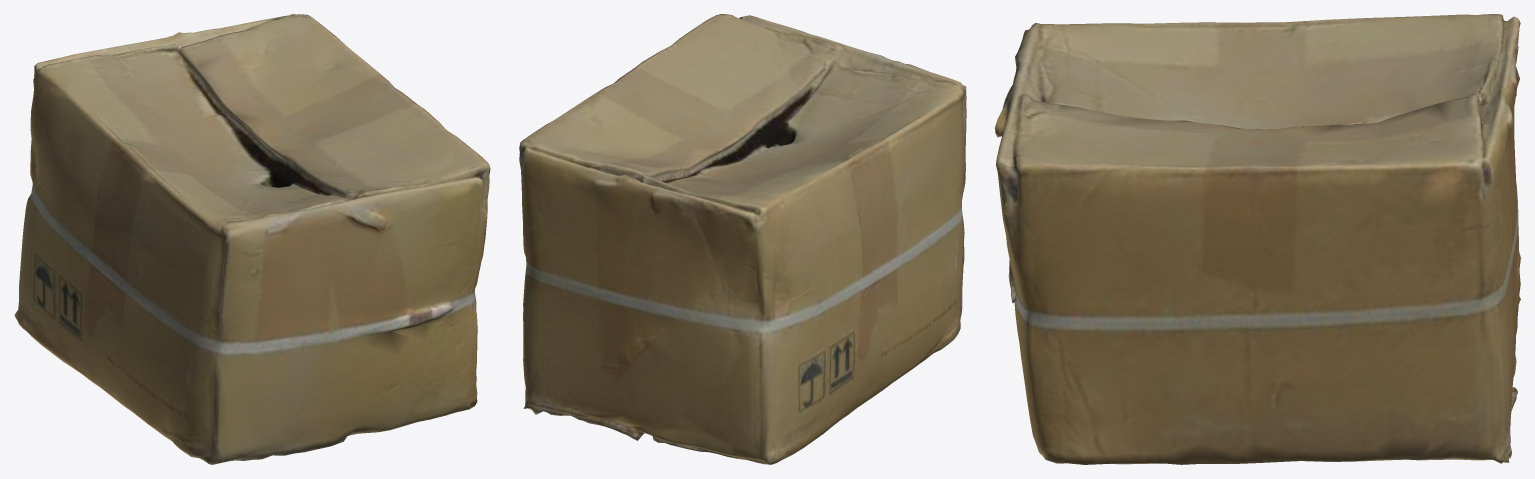
Rendered from cardboard_box_01.glb.
3 renders of one model, left to right at view 1: azimuth 30°, elevation 25°; view 2: azimuth 150°, elevation 25°; view 3: azimuth 270°, elevation 25°, orthographic. The views are drawn at different scales.
Visible parts, largest first — view 1: cardboard_box_01; view 2: cardboard_box_01; view 3: cardboard_box_01.
Boxes of the visible parts, bbox=[...] form: cardboard_box_01: bbox=[14, 14, 490, 464]; cardboard_box_01: bbox=[519, 14, 966, 464]; cardboard_box_01: bbox=[995, 14, 1520, 464].
Bounding box in the file's own units: 0.3868 × 0.3418 × 0.5159.
1 material, 1 textured.
